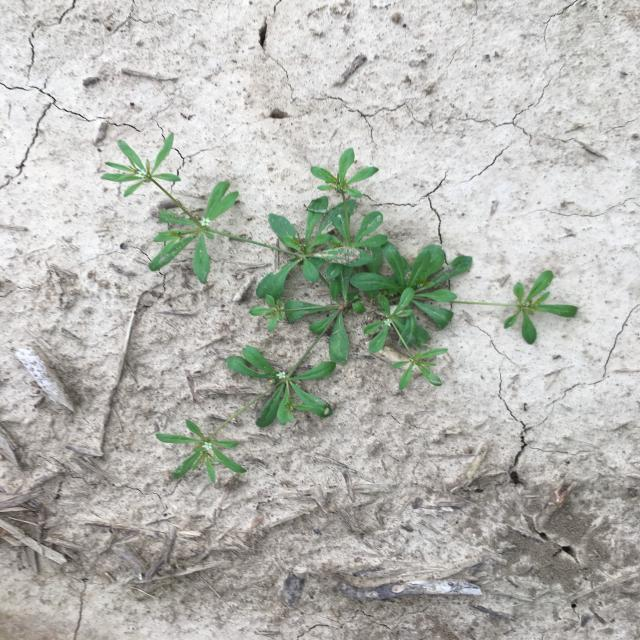Carpetweed: (101, 132, 578, 484)
